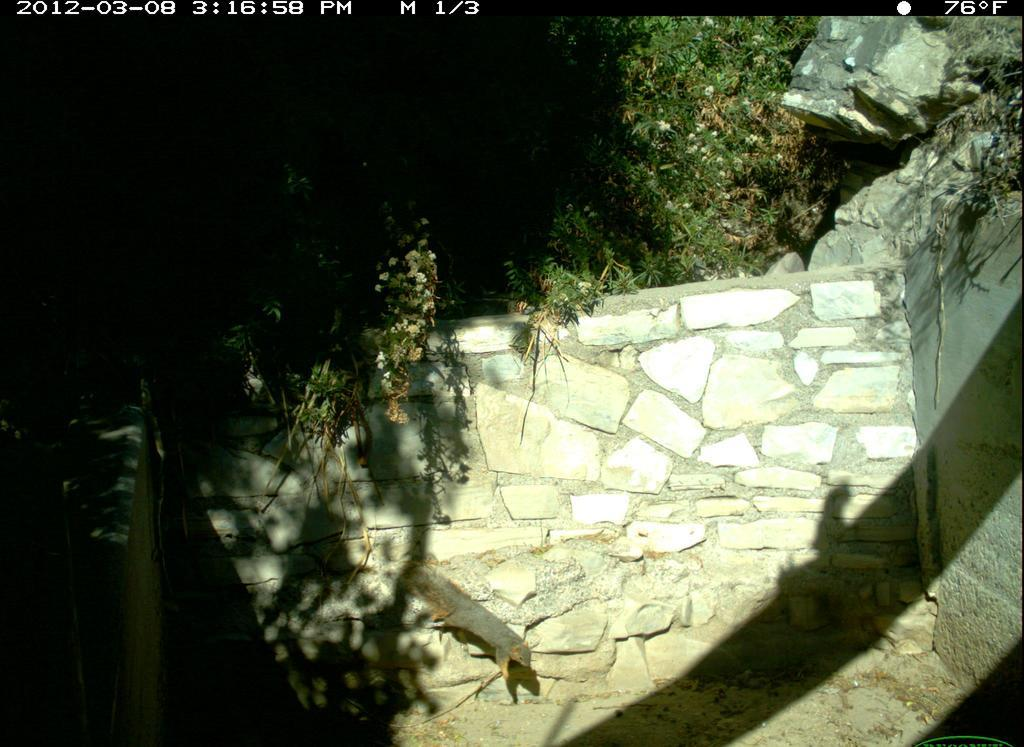squirrel: (391, 560, 550, 697)
